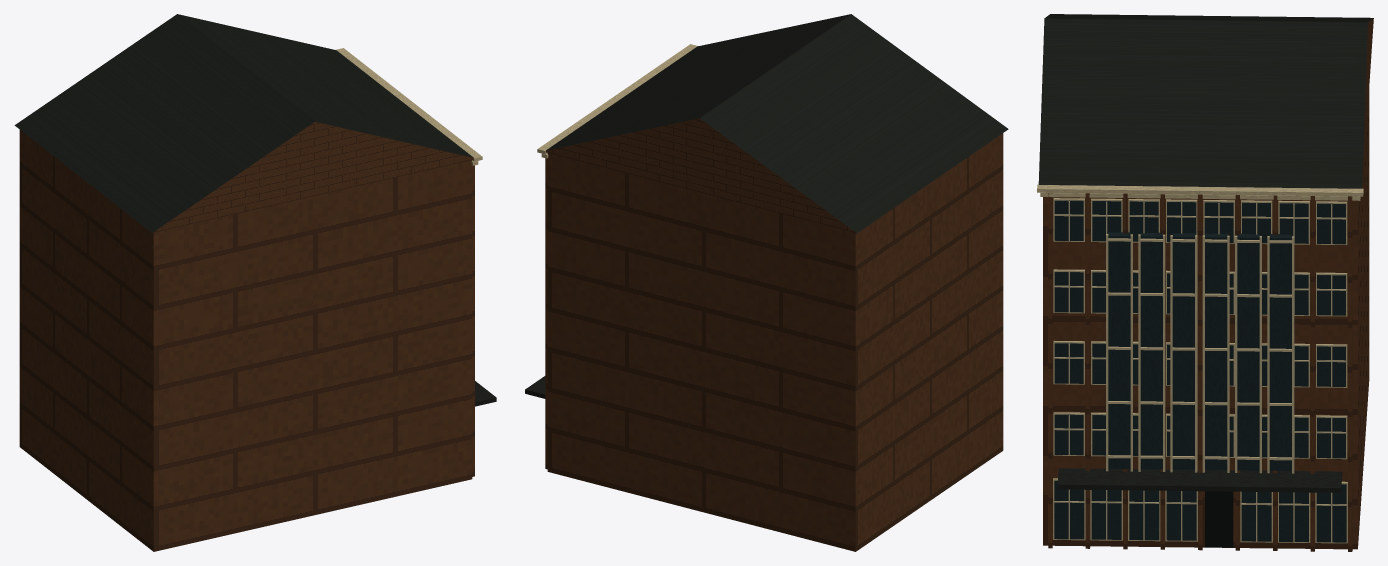
The picture shows the model from 3 angles, left to right: view 1: azimuth 30°, elevation 25°; view 2: azimuth 150°, elevation 25°; view 3: azimuth 270°, elevation 25°; orthographic projection. The views are drawn at different scales.
Visible parts, largest first — view 1: jungerhans-coolsingel-0, jungerhans-coolsingel-1, jungerhans-coolsingel-2; view 2: jungerhans-coolsingel-0, jungerhans-coolsingel-1, jungerhans-coolsingel-2; view 3: jungerhans-coolsingel-3, jungerhans-coolsingel-1, jungerhans-coolsingel-0, jungerhans-coolsingel-2, jungerhans-coolsingel-4.
Boxes of the visible parts, x1,y1,x2,y2 form: jungerhans-coolsingel-0: (19,122,474,551); jungerhans-coolsingel-1: (14,14,496,406); jungerhans-coolsingel-2: (336,48,482,165); jungerhans-coolsingel-0: (545,118,1003,551); jungerhans-coolsingel-1: (525,14,1008,398); jungerhans-coolsingel-2: (537,44,698,158); jungerhans-coolsingel-3: (1054,200,1346,542); jungerhans-coolsingel-1: (1038,14,1373,492); jungerhans-coolsingel-0: (1043,18,1373,551); jungerhans-coolsingel-2: (1037,184,1363,543); jungerhans-coolsingel-4: (1205,491,1233,547).
Bounding box in the file's own units: 25.95 × 27.7 × 19.14.
5 materials, 5 textured.
